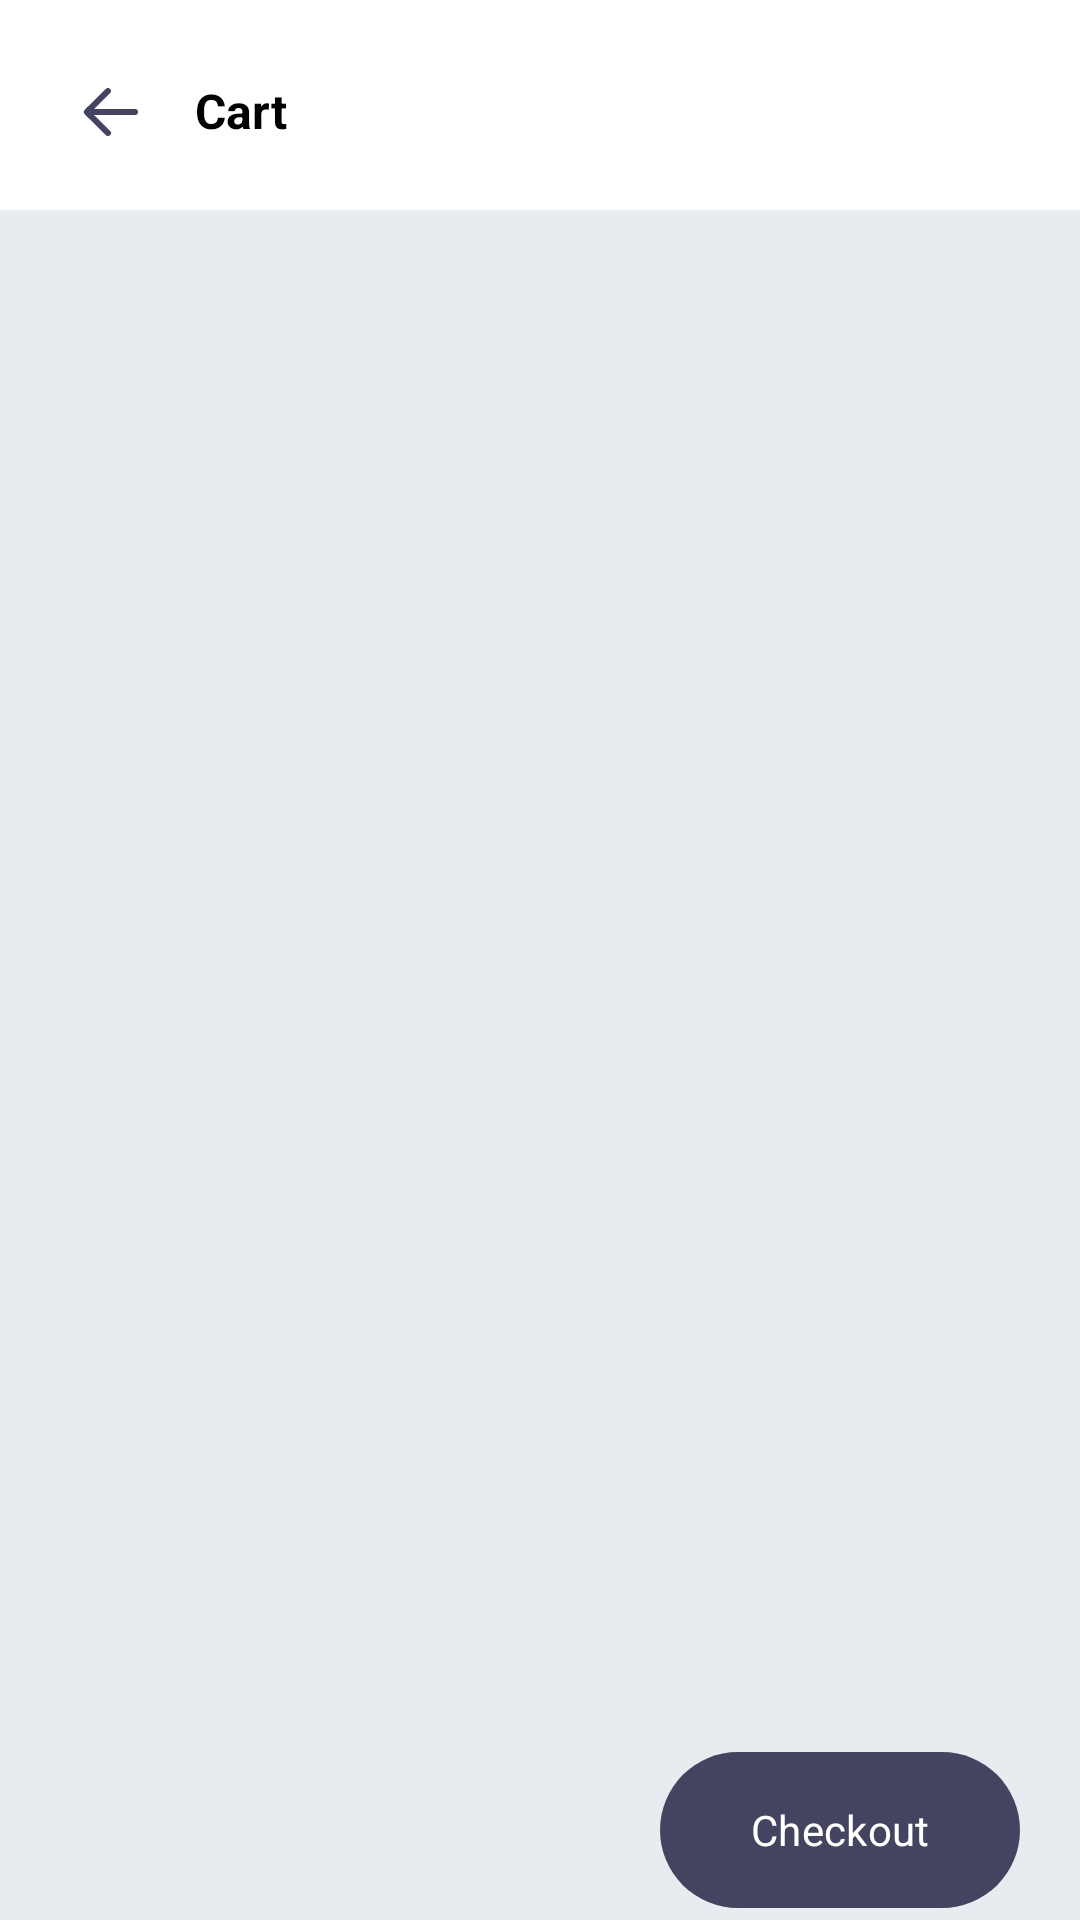

Screen size 1080 x 1920. Icon name, then its center in pixels as [x,y]:
fluent arrow left: [111,112]
